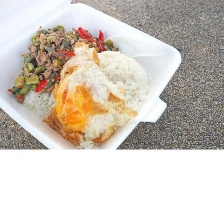foam_box: (0, 0, 186, 149)
